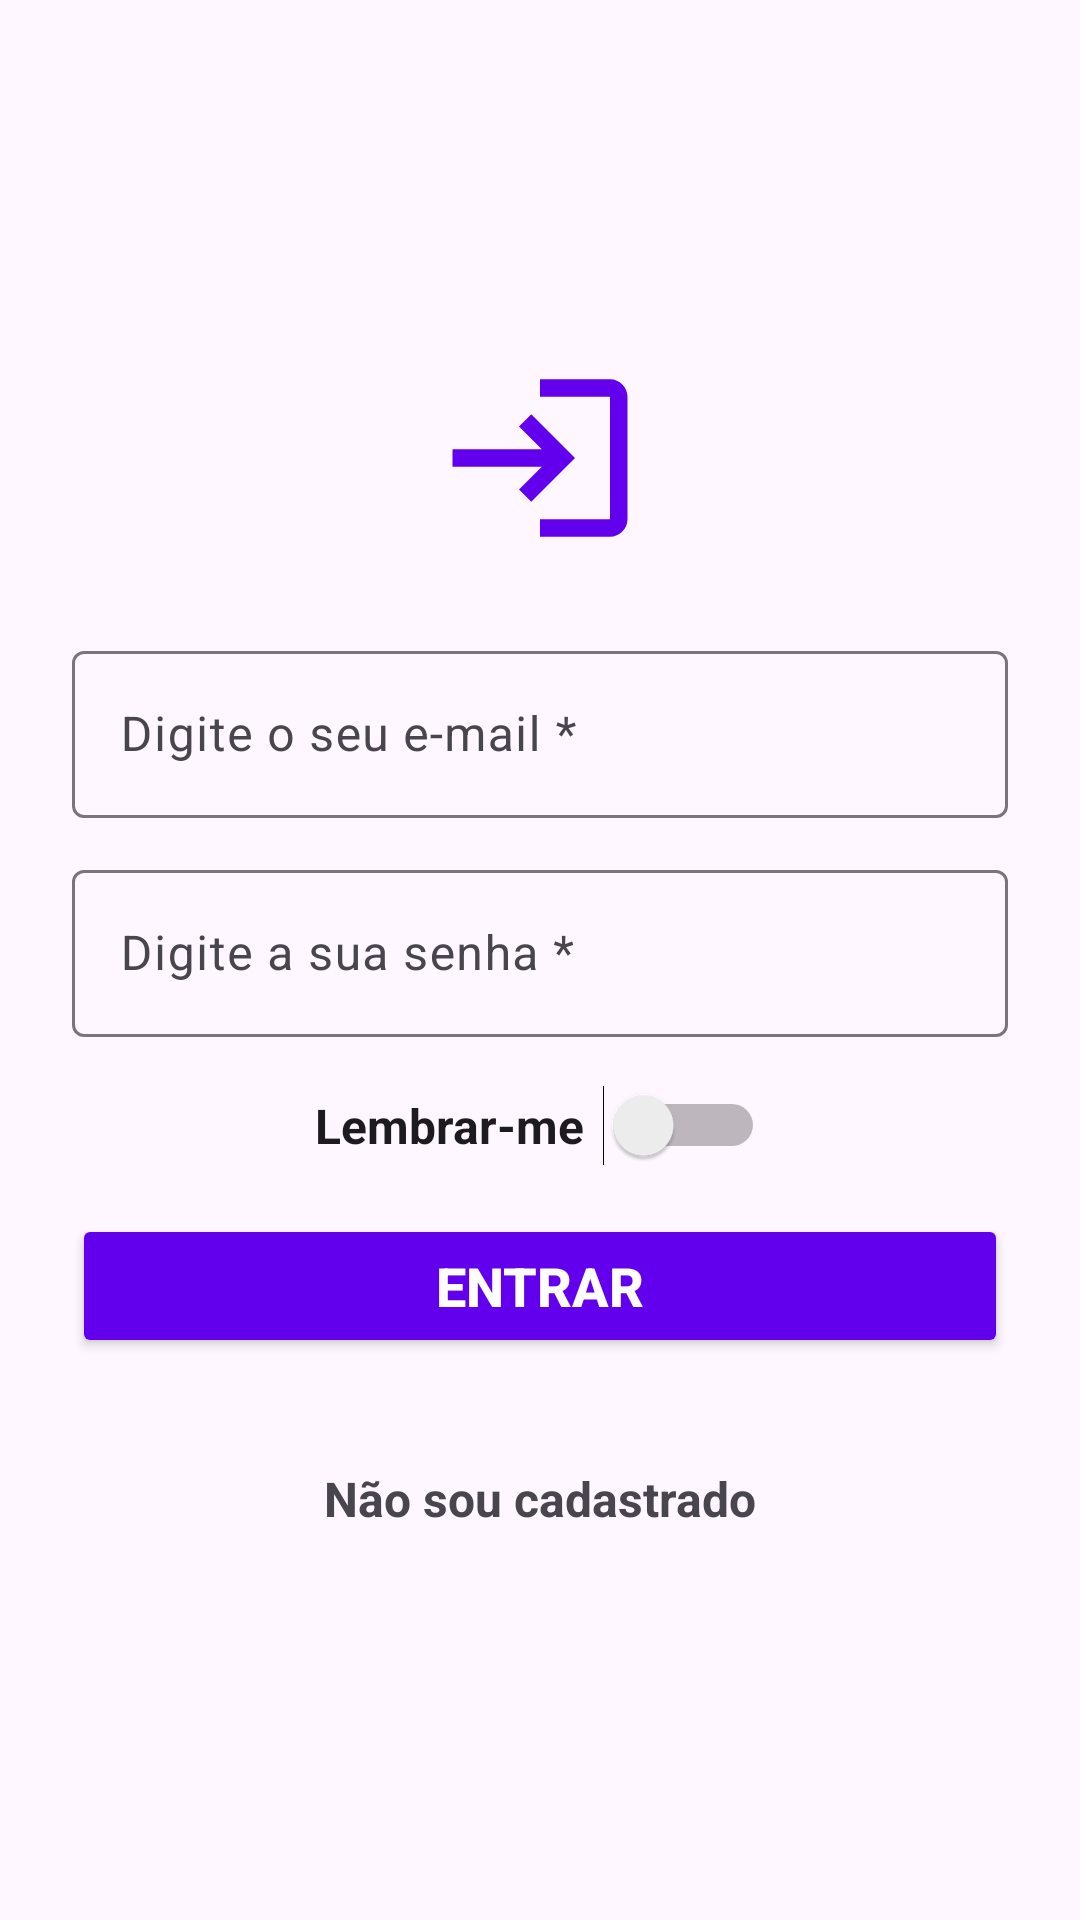

Locate icon controls on the screen. Image size 1080 x 1920, boxes as (x1, y1, x2, y2).
login: (452, 379, 628, 537)
